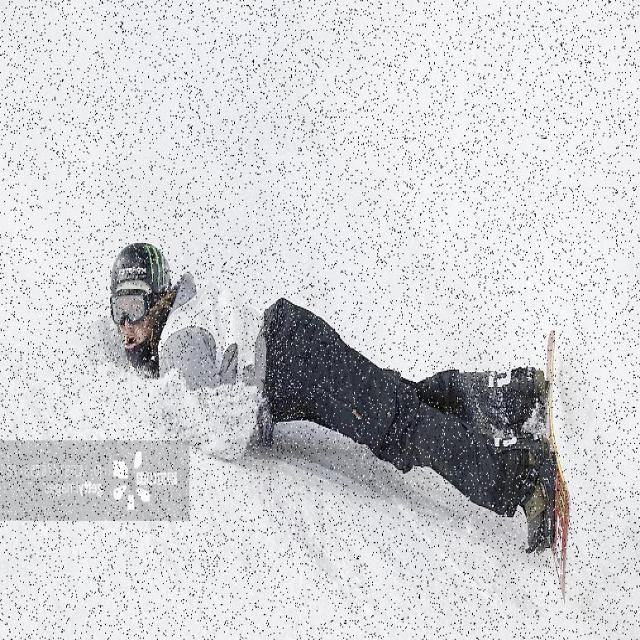fall: (111, 241, 556, 521)
